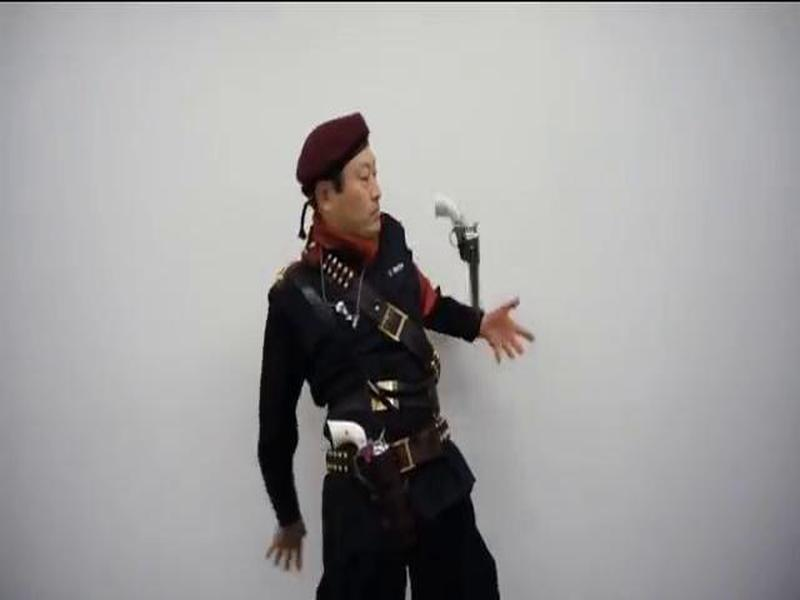Revolver: (418, 189, 500, 327)
